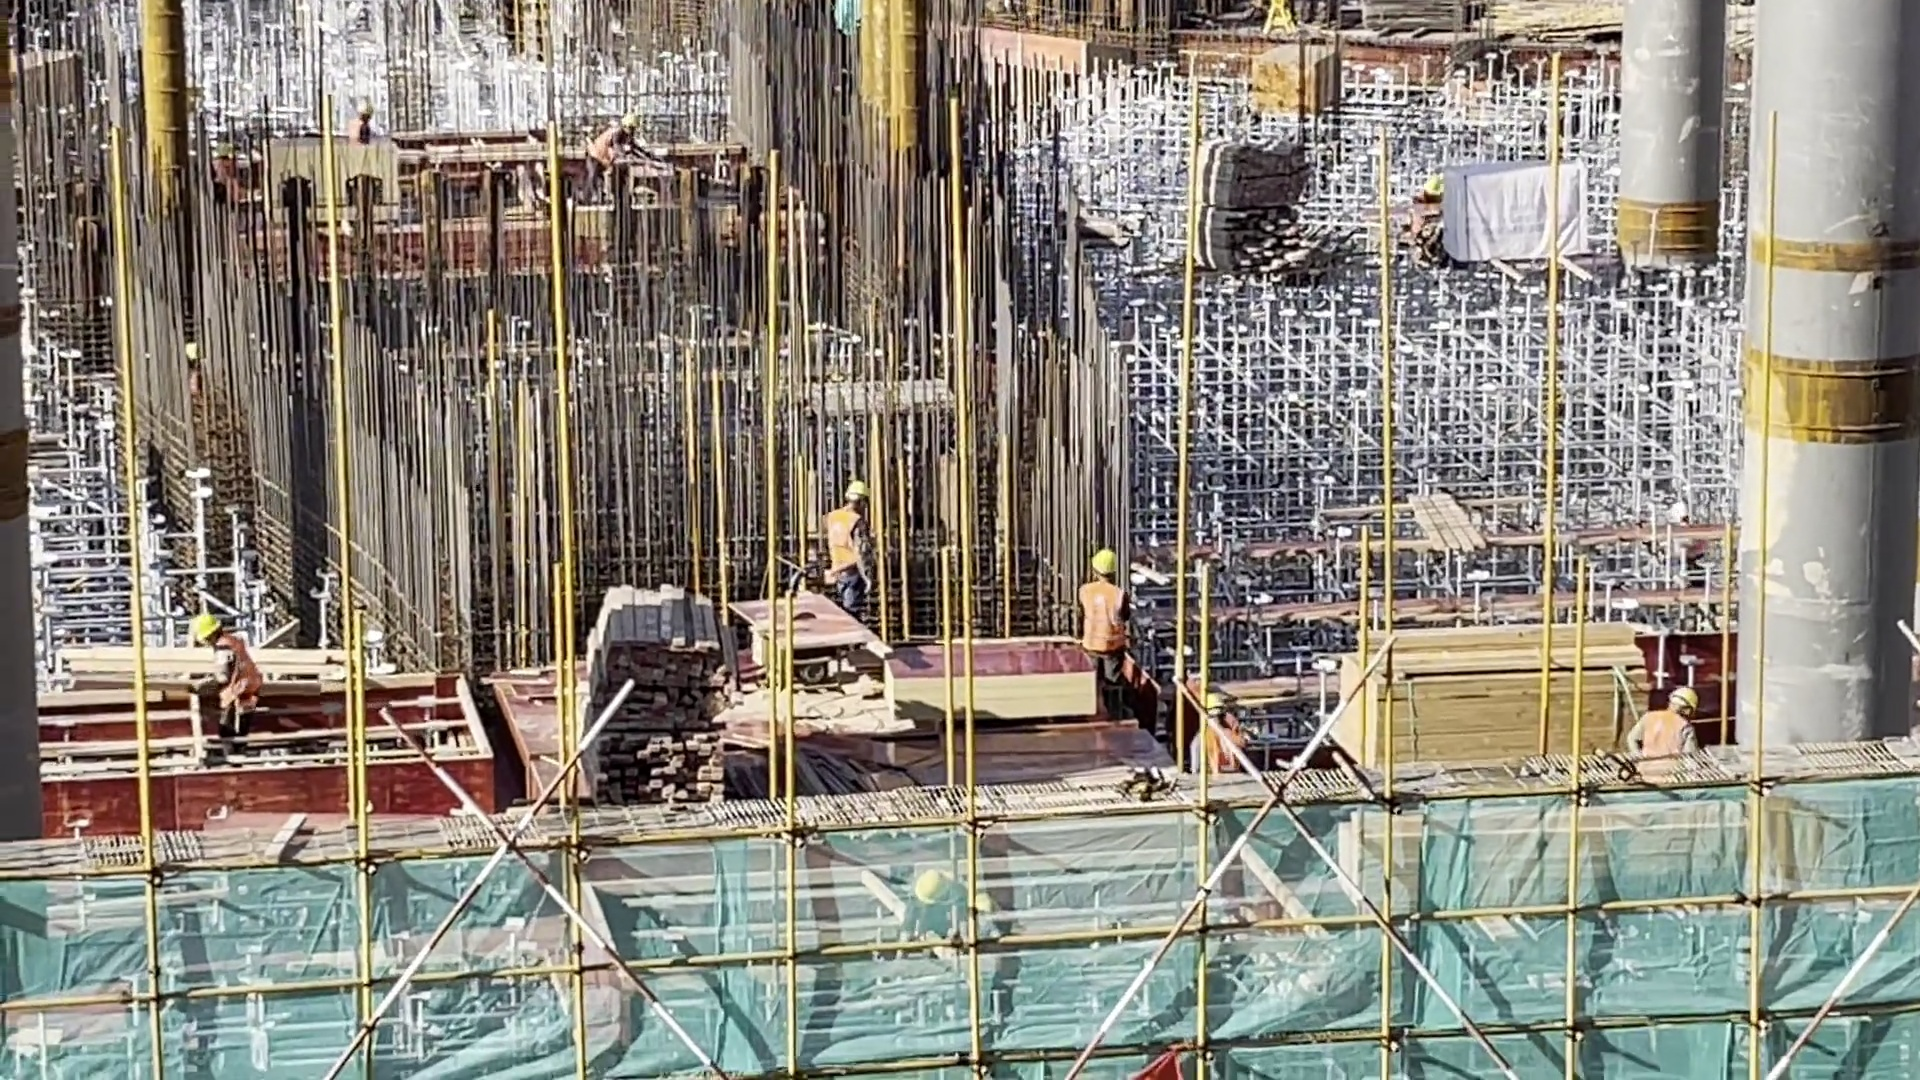board: (886, 643, 1100, 728)
ebox: (1254, 1, 1303, 32)
helmet: (191, 614, 230, 646), (1089, 549, 1126, 574), (1670, 687, 1701, 713), (843, 480, 871, 503), (617, 110, 639, 129), (356, 100, 374, 118)
person: (1077, 549, 1140, 719), (192, 612, 269, 739), (817, 479, 877, 619), (572, 110, 645, 205), (1625, 686, 1697, 753), (346, 97, 379, 144)
vest: (1075, 578, 1132, 651), (210, 635, 262, 706), (828, 508, 865, 575), (1644, 708, 1689, 757), (587, 125, 620, 164), (348, 115, 364, 143)
wood: (1332, 615, 1645, 760), (585, 580, 732, 812), (1248, 42, 1299, 115)
